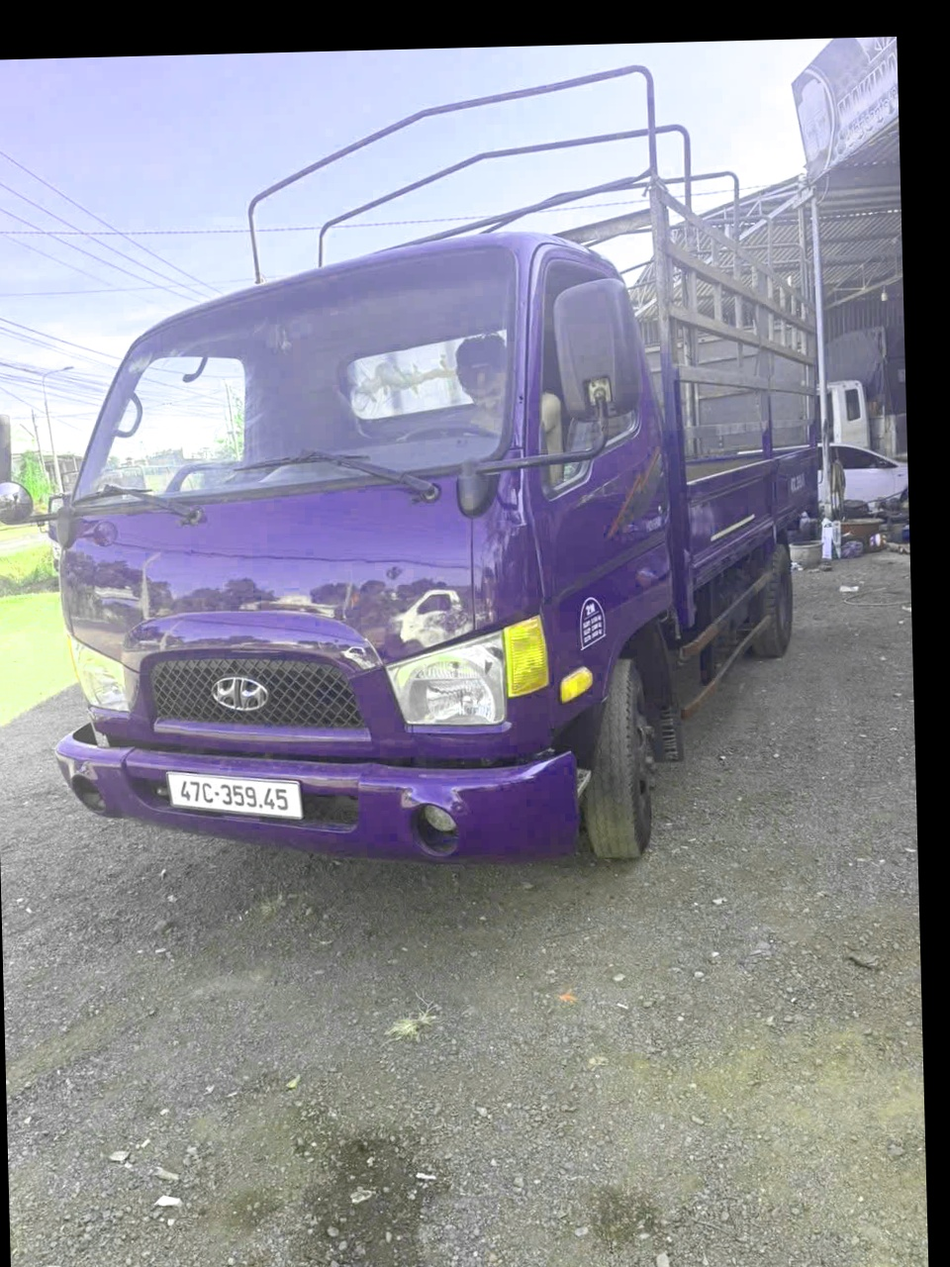Bien-so: (216, 747, 356, 799)
